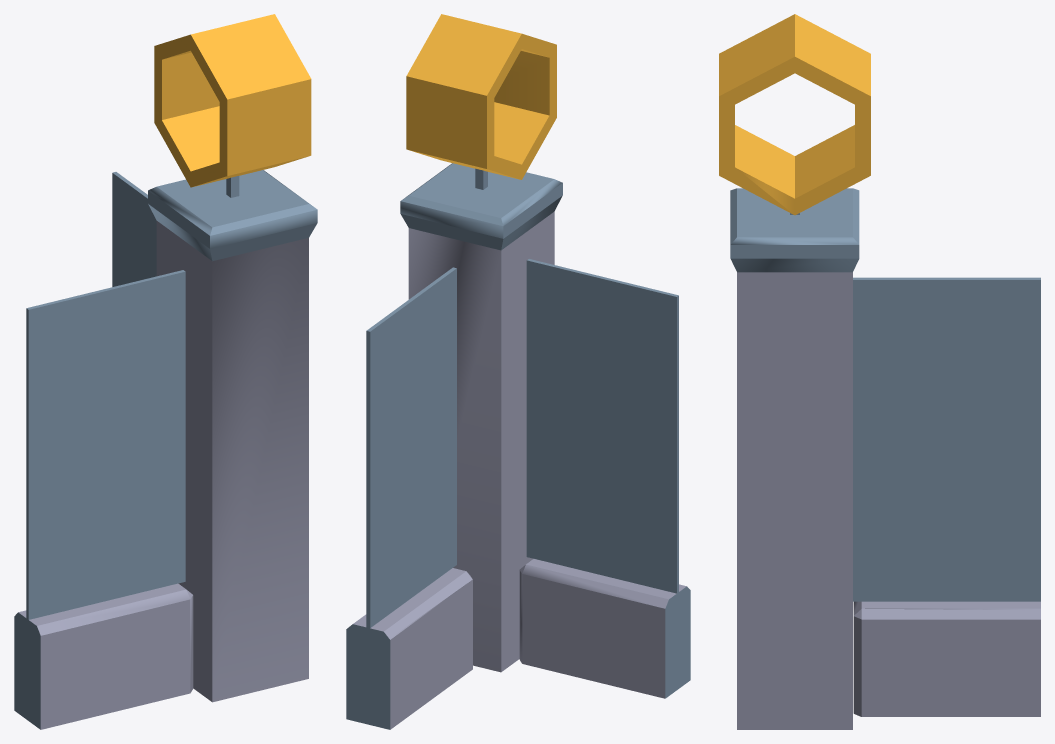
Rendered from fence_monolith_corner1.FBX.
The picture shows the model from 3 angles, left to right: view 1: azimuth 30°, elevation 25°; view 2: azimuth 150°, elevation 25°; view 3: azimuth 270°, elevation 25°; orthographic projection. The views are drawn at different scales.
Visible parts, largest first — view 1: fence_monolith_corner; view 2: fence_monolith_corner; view 3: fence_monolith_corner.
Boxes of the visible parts, bbox=[...] form: fence_monolith_corner: bbox=[14, 14, 317, 729]; fence_monolith_corner: bbox=[346, 14, 690, 729]; fence_monolith_corner: bbox=[719, 14, 1040, 729].
Size of the model in its own units: 63.11 by 65.43 by 150.
